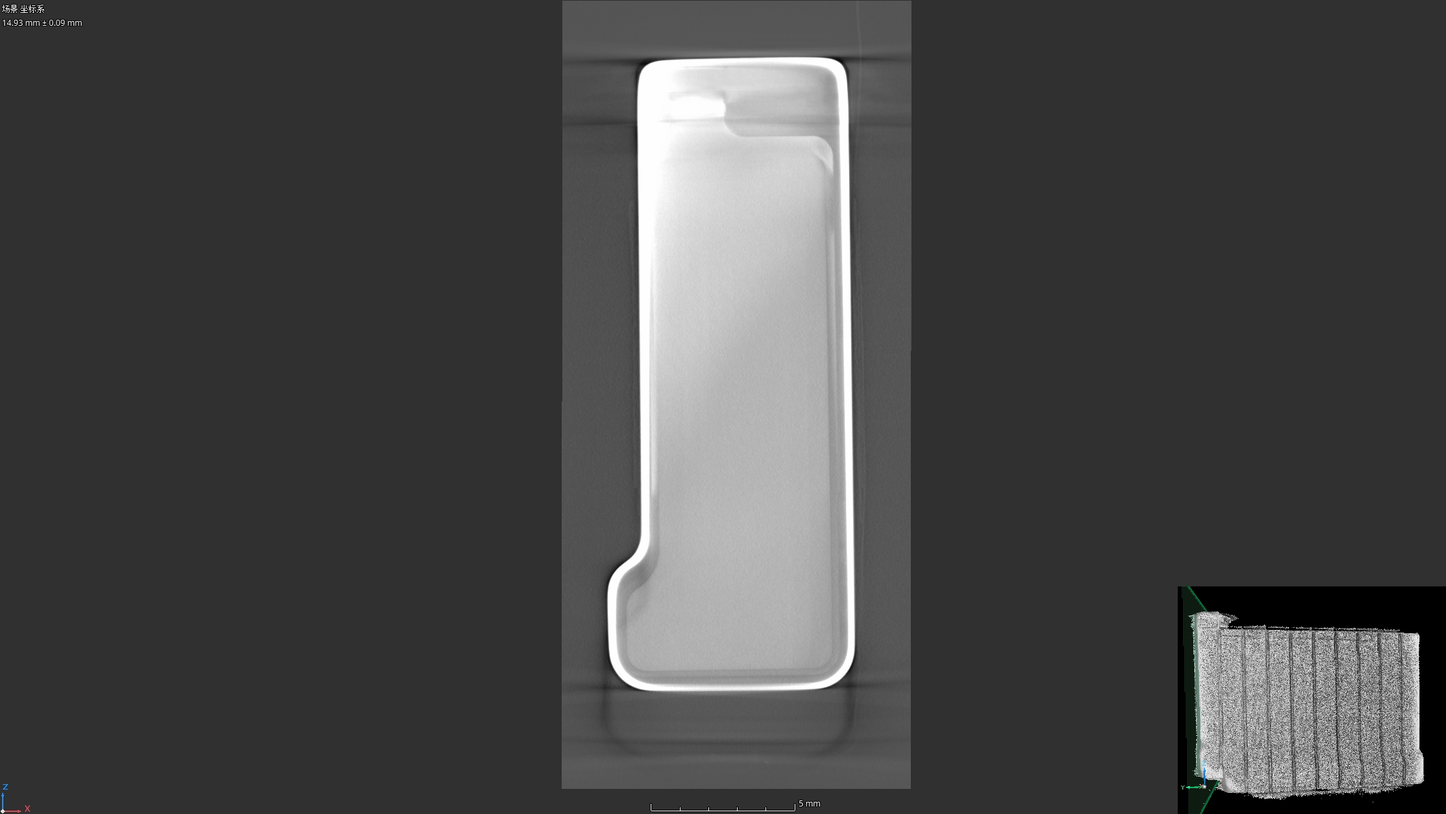damage: (803, 131, 836, 174)
